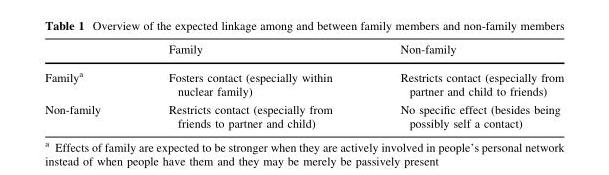table: (44, 43, 563, 129)
table column: (134, 43, 365, 129), (365, 43, 563, 129), (44, 43, 134, 129)
table column header: (44, 43, 563, 62)
table row: (44, 62, 563, 100), (44, 100, 563, 129), (44, 43, 563, 62)
